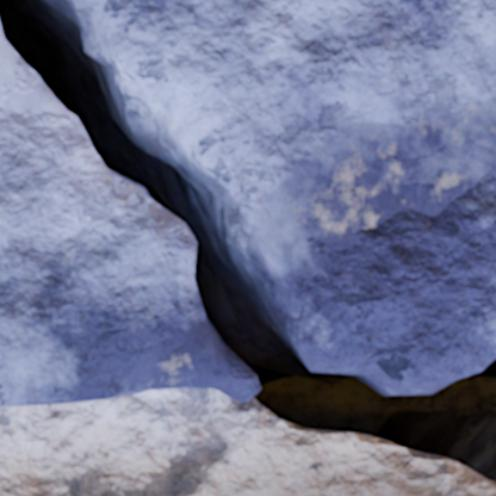broken_brick: (84, 0, 495, 391), (0, 28, 260, 408)
crack: (0, 0, 495, 493)
